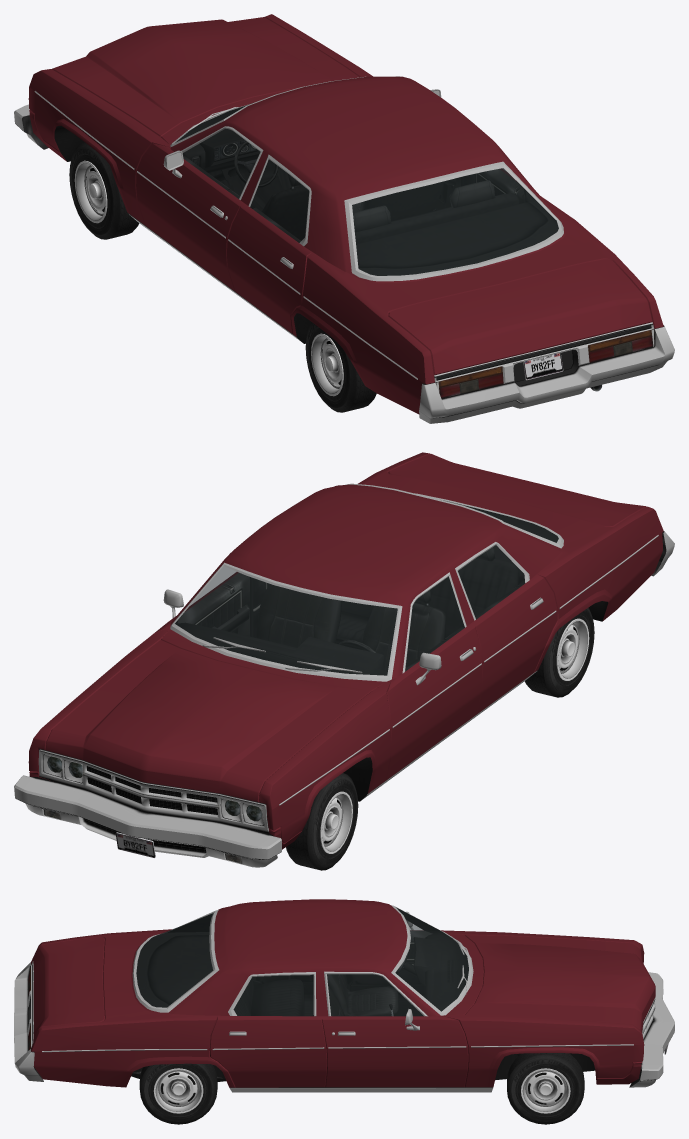
Rendered from car2.glb.
3 renders of one model, top to bottom at view 1: azimuth 30°, elevation 25°; view 2: azimuth 150°, elevation 25°; view 3: azimuth 270°, elevation 25°, orthographic. The views are drawn at different scales.
Visible parts, largest first — view 1: Chapman73_Body_Chapman73_Body_0, Chapman73_Interior_GEN4DR_INTERIOR_0, Chapman73_Hood_Chapman73_Body_0, Chapman73_Trunk_Door_Chapman73_Body_0, Chapman73_Glass_Rear_UCB_GLASS_CLEAN_0, Chapman73_Bottom_UCB_BOTTOM_LT_0, Chapman73_Bumper_Rear_UCB_BOTTOM_LT_0, Chapman73_Glass_Body_UCB_GLASS_CLEAN_0, Chapman73_Wheel_FL_RB1c_Tire_0, Chapman73_Wheel_RL_RB1c_Tire_0, Chapman73_Brakelight_glass_Riverside88_lights_0, Chapman73_Blinkers_Riverside88_lights_0 (+1 smaller); view 2: Chapman73_Body_Chapman73_Body_0, Chapman73_Hood_Chapman73_Body_0, Chapman73_Interior_GEN4DR_INTERIOR_0, Chapman73_Bottom_UCB_BOTTOM_LT_0, Chapman73_Windshield_UCB_GLASS_CLEAN_0, Chapman73_Bumper_Front_UCB_BOTTOM_LT_0, Chapman73_Glass_Body_UCB_GLASS_CLEAN_0, Chapman73_Trunk_Door_Chapman73_Body_0, Chapman73_Wheel_FL_RB1c_Tire_0, Chapman73_Wheel_RL_RB1c_Tire_0, Chapman73_Headlights_Riverside88_lights_0, Chapman73_Numberplates_Rear_Numberplates_Generic_USA_0 (+1 smaller); view 3: Chapman73_Body_Chapman73_Body_0, Chapman73_Interior_GEN4DR_INTERIOR_0, Chapman73_Hood_Chapman73_Body_0, Chapman73_Bottom_UCB_BOTTOM_LT_0, Chapman73_Glass_Body_UCB_GLASS_CLEAN_0, Chapman73_Trunk_Door_Chapman73_Body_0, Chapman73_Glass_Rear_UCB_GLASS_CLEAN_0, Chapman73_Wheel_FR_RB1c_Tire_0, Chapman73_Windshield_UCB_GLASS_CLEAN_0, Chapman73_Wheel_RR_RB1c_Tire_0, Chapman73_Bumper_Front_UCB_BOTTOM_LT_0, Chapman73_Bumper_Rear_UCB_BOTTOM_LT_0.
Boxes of the visible parts, x1,y1,x2,y2 form: Chapman73_Body_Chapman73_Body_0: [28, 14, 663, 414]; Chapman73_Interior_GEN4DR_INTERIOR_0: [175, 106, 558, 275]; Chapman73_Hood_Chapman73_Body_0: [52, 17, 359, 136]; Chapman73_Trunk_Door_Chapman73_Body_0: [388, 259, 652, 375]; Chapman73_Glass_Rear_UCB_GLASS_CLEAN_0: [352, 168, 558, 275]; Chapman73_Bottom_UCB_BOTTOM_LT_0: [34, 76, 654, 398]; Chapman73_Bumper_Rear_UCB_BOTTOM_LT_0: [419, 325, 674, 423]; Chapman73_Glass_Body_UCB_GLASS_CLEAN_0: [183, 129, 516, 242]; Chapman73_Wheel_FL_RB1c_Tire_0: [69, 142, 139, 239]; Chapman73_Wheel_RL_RB1c_Tire_0: [305, 322, 376, 412]; Chapman73_Brakelight_glass_Riverside88_lights_0: [439, 336, 653, 398]; Chapman73_Blinkers_Riverside88_lights_0: [438, 329, 651, 387]; Chapman73_Body_Chapman73_Body_0: [28, 452, 663, 849]; Chapman73_Hood_Chapman73_Body_0: [45, 640, 371, 802]; Chapman73_Interior_GEN4DR_INTERIOR_0: [175, 501, 558, 675]; Chapman73_Bottom_UCB_BOTTOM_LT_0: [30, 483, 658, 836]; Chapman73_Windshield_UCB_GLASS_CLEAN_0: [175, 566, 397, 675]; Chapman73_Bumper_Front_UCB_BOTTOM_LT_0: [14, 775, 281, 867]; Chapman73_Glass_Body_UCB_GLASS_CLEAN_0: [405, 545, 524, 671]; Chapman73_Trunk_Door_Chapman73_Body_0: [388, 454, 646, 526]; Chapman73_Wheel_FL_RB1c_Tire_0: [286, 773, 358, 870]; Chapman73_Wheel_RL_RB1c_Tire_0: [524, 607, 594, 697]; Chapman73_Headlights_Riverside88_lights_0: [47, 756, 262, 821]; Chapman73_Numberplates_Rear_Numberplates_Generic_USA_0: [115, 832, 155, 857]; Chapman73_Body_Chapman73_Body_0: [31, 899, 644, 1087]; Chapman73_Interior_GEN4DR_INTERIOR_0: [136, 907, 468, 1016]; Chapman73_Hood_Chapman73_Body_0: [465, 935, 655, 1032]; Chapman73_Bottom_UCB_BOTTOM_LT_0: [27, 905, 655, 1092]; Chapman73_Glass_Body_UCB_GLASS_CLEAN_0: [233, 974, 423, 1016]; Chapman73_Trunk_Door_Chapman73_Body_0: [33, 937, 104, 1041]; Chapman73_Glass_Rear_UCB_GLASS_CLEAN_0: [136, 913, 212, 1007]; Chapman73_Wheel_FR_RB1c_Tire_0: [507, 1053, 584, 1124]; Chapman73_Windshield_UCB_GLASS_CLEAN_0: [395, 907, 468, 1011]; Chapman73_Wheel_RR_RB1c_Tire_0: [139, 1063, 217, 1124]; Chapman73_Bumper_Front_UCB_BOTTOM_LT_0: [629, 972, 674, 1087]; Chapman73_Bumper_Rear_UCB_BOTTOM_LT_0: [14, 962, 43, 1081].
Size of the model in its own units: 1.8 by 1.21 by 4.81.
7 materials, 6 textured.
